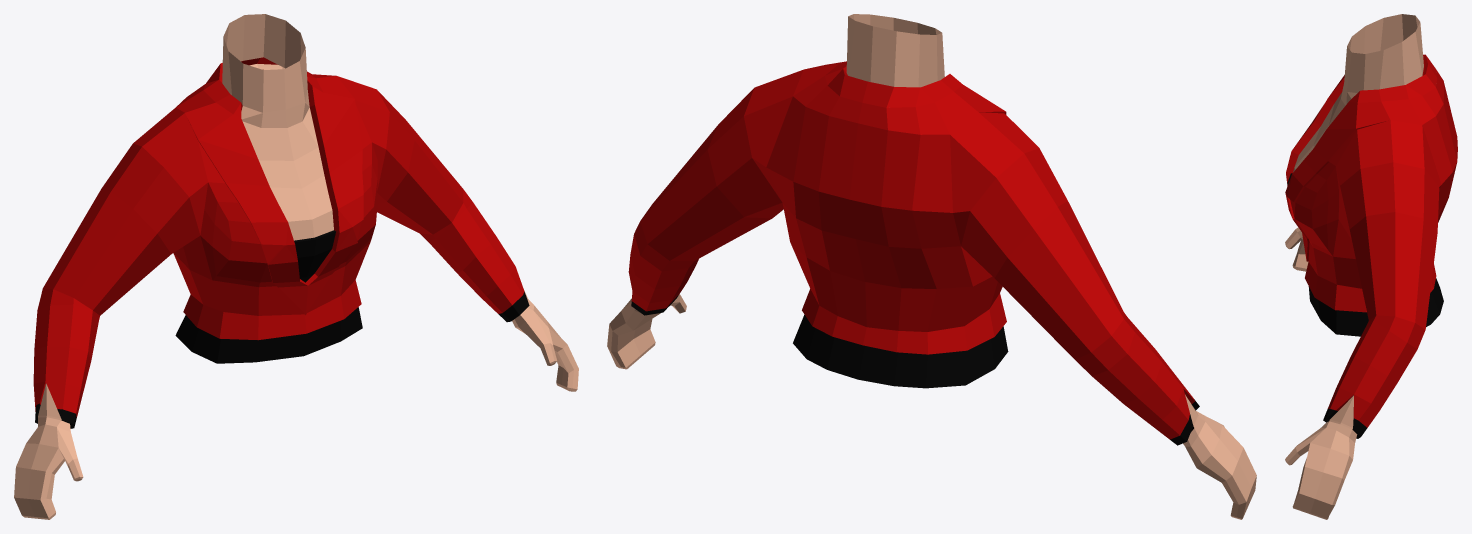
3 views of the same model, side by side, from view 1: azimuth 30°, elevation 25°; view 2: azimuth 150°, elevation 25°; view 3: azimuth 270°, elevation 25° (orthographic). The views are drawn at different scales.
Parts seen in each view (by area): view 1: top; view 2: top; view 3: top.
Boxes of the visible parts, box(x1,y1,x2,y2) form: top: box(14, 14, 578, 519); top: box(607, 14, 1256, 519); top: box(1285, 14, 1457, 519).
Size of the model in its own units: 0.6152 by 0.4229 by 0.177.
